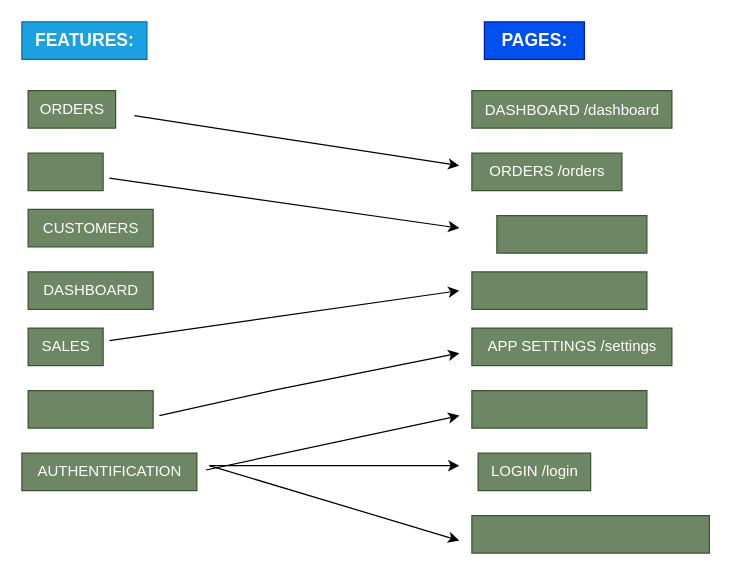
The diagram is 731 pixels wide and 575 high, and some of its shapes have lost their labels. The centre of each missing label's shape, as x and y in pixels:
ACCOUNT SETTINGS /account: point 590,533
APPSETTINGS: point 90,408
SALES /sale/:orederId: point 559,290
STORE: point 65,171
STORE /pharmacy: point 571,233
USER SIGN IN /users: point 559,408
